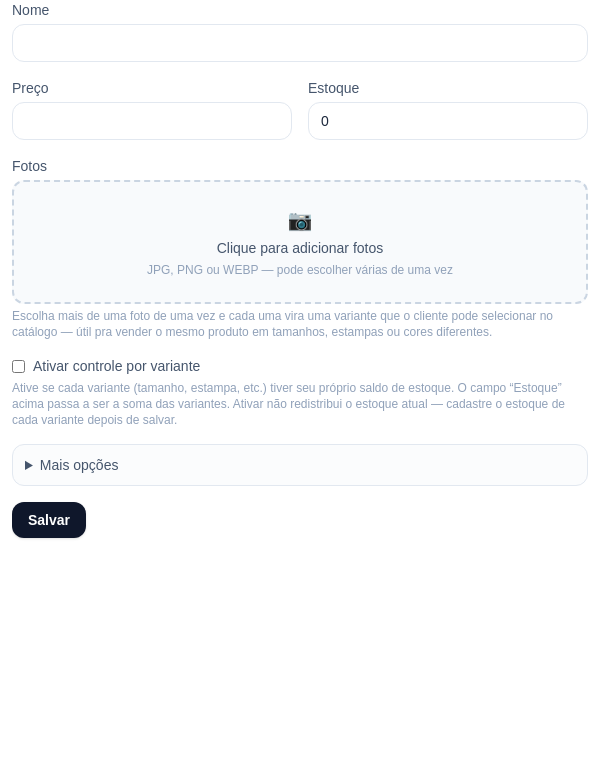
Test: ProdutoForm › usa 'Geral' como categoria padrão e catálogo visível para um novo produto
Click the heading "Mais opções" at (79, 465), box [40,457,118,473]
(page scrolled)
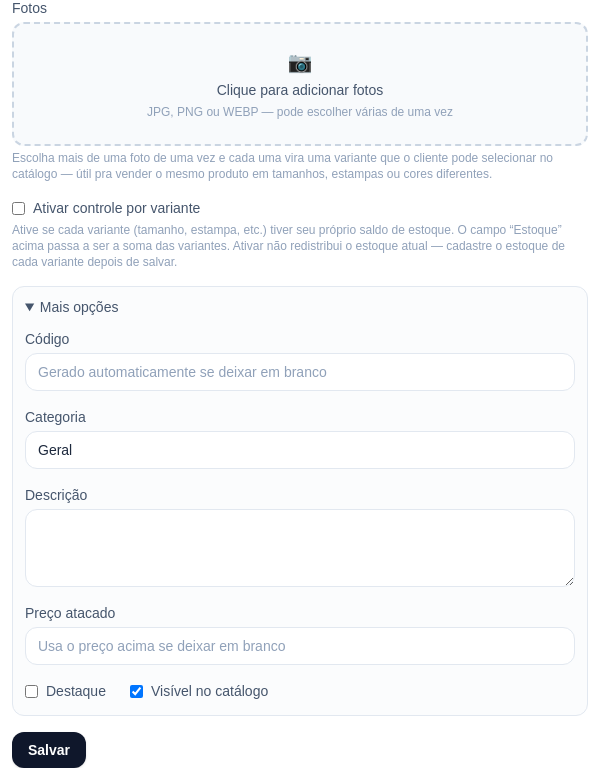
Check: the field labelled "Categoria" holds "Geral", box [25,431,575,469]
Check: the checkbox labelled "Visível no catálogo" is checked, box [130,684,143,698]
Check: the checkbox labelled "Destaque" is not checked, box [25,684,38,698]
